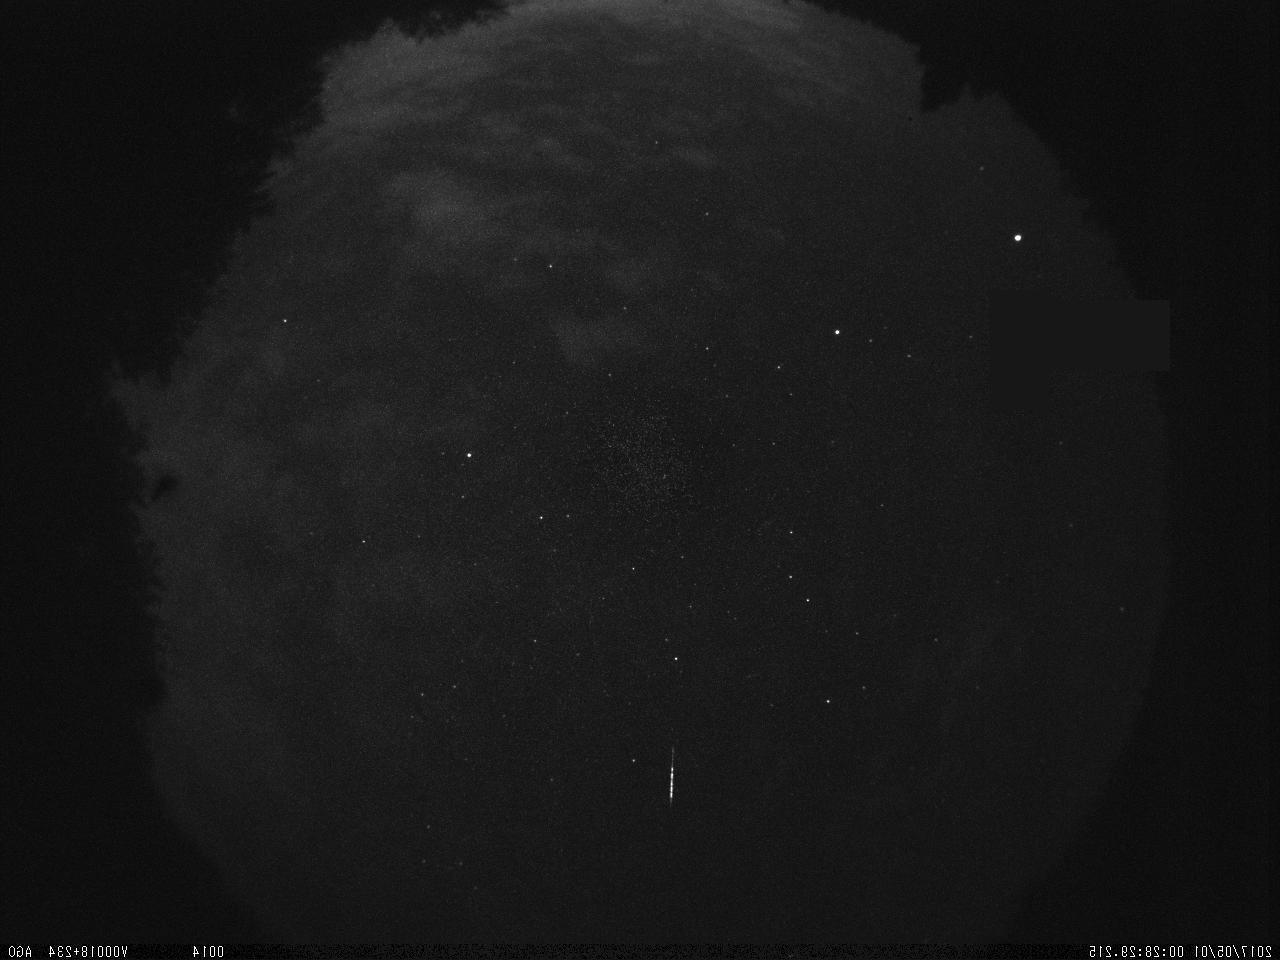meteor: (647, 735, 687, 817)
